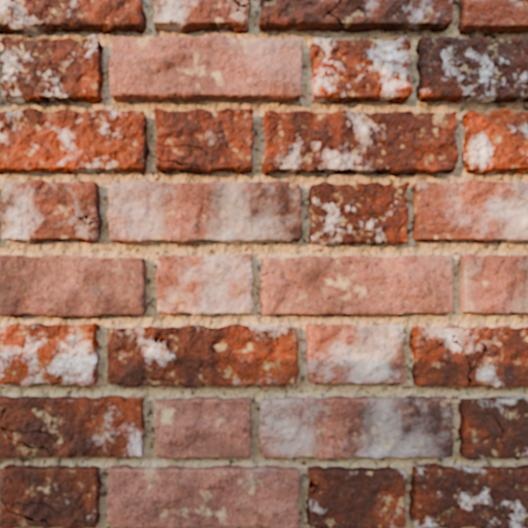brick: (110, 34, 301, 101), (261, 109, 457, 174), (107, 465, 299, 527), (107, 324, 298, 386), (259, 397, 452, 458), (108, 181, 301, 242), (260, 255, 453, 315), (0, 108, 148, 173), (0, 255, 145, 317), (0, 396, 144, 457), (409, 463, 527, 527), (416, 36, 527, 102), (410, 325, 527, 386), (413, 180, 527, 242), (1, 36, 103, 103), (310, 36, 411, 103), (154, 108, 252, 173), (0, 180, 101, 243), (0, 465, 100, 527), (309, 182, 409, 243), (0, 323, 98, 385), (259, 0, 452, 31), (307, 467, 405, 527), (306, 324, 404, 383), (156, 254, 252, 314), (156, 397, 250, 458), (0, 0, 145, 34), (458, 396, 527, 459), (462, 109, 527, 173), (459, 254, 527, 313), (153, 0, 250, 32), (458, 0, 527, 33)
crack: (451, 333, 489, 387), (0, 497, 57, 525), (64, 200, 100, 228), (156, 142, 208, 154), (156, 157, 200, 171), (140, 376, 187, 387), (321, 0, 342, 24), (231, 0, 250, 13), (308, 479, 319, 494), (481, 33, 496, 40), (310, 523, 328, 527), (463, 33, 474, 39), (452, 0, 459, 6), (446, 413, 452, 420), (294, 196, 301, 202), (401, 328, 405, 334)
